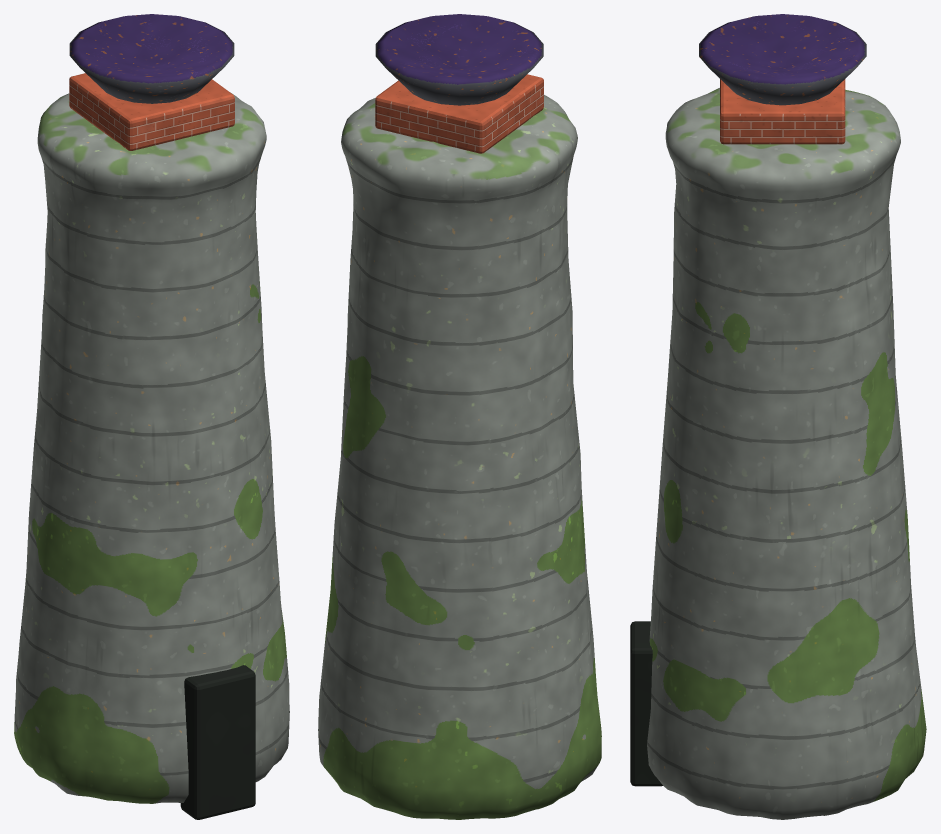
Rendered from fog_tower.glb.
The picture shows the model from 3 angles, left to right: view 1: azimuth 30°, elevation 25°; view 2: azimuth 150°, elevation 25°; view 3: azimuth 270°, elevation 25°; orthographic projection.
Parts seen in each view (by area): view 1: FogTower, bw, bb; view 2: FogTower, bw, bb; view 3: FogTower, bw, bb.
Boxes of the visible parts, x1,y1,x2,y2 form: FogTower: (14,92,289,819); bw: (69,14,234,103); bb: (69,73,234,150); FogTower: (318,95,601,819); bw: (375,14,543,105); bb: (375,74,543,153); FogTower: (630,88,926,819); bw: (699,14,866,105); bb: (720,79,845,144).
Size of the model in its own units: 3.17 by 8.98 by 3.31.
1 material, 1 textured.
